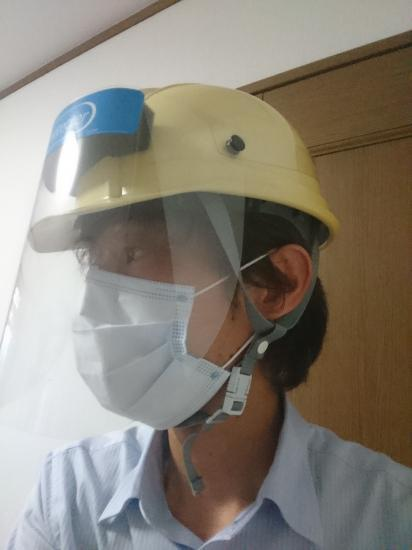helmet: (28, 82, 343, 254)
